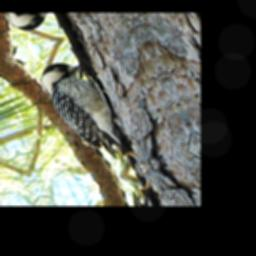Woodpecker: (35, 52, 135, 173)
